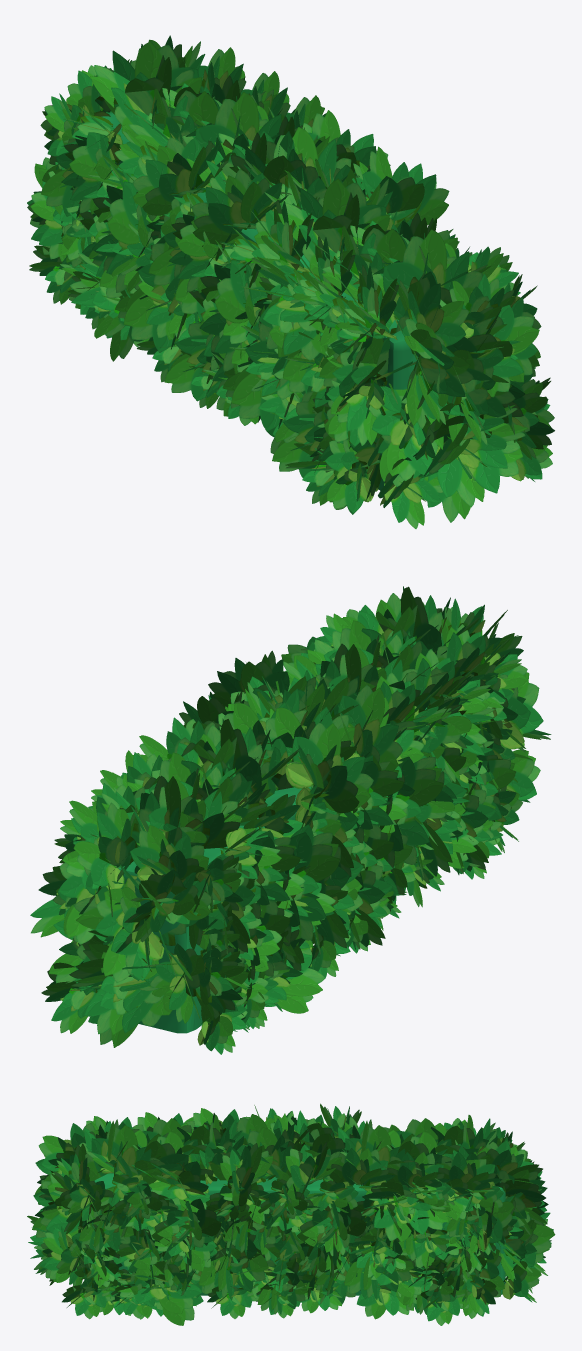
Rendered from Bush.fbx.
3 renders of one model, top to bottom at view 1: azimuth 30°, elevation 25°; view 2: azimuth 150°, elevation 25°; view 3: azimuth 270°, elevation 25°, orthographic. The views are drawn at different scales.
Visible parts, largest first — view 1: Bush_Leaves, Bush; view 2: Bush_Leaves, Bush; view 3: Bush_Leaves, Bush.
Boxes of the visible parts, x1,y1,x2,y2 form: Bush_Leaves: [27, 35, 554, 528]; Bush: [101, 112, 418, 490]; Bush_Leaves: [30, 586, 551, 1054]; Bush: [97, 707, 426, 1033]; Bush_Leaves: [27, 1103, 555, 1325]; Bush: [84, 1173, 505, 1295].
Size of the model in its own units: 5.4 by 5.77 by 14.72.
